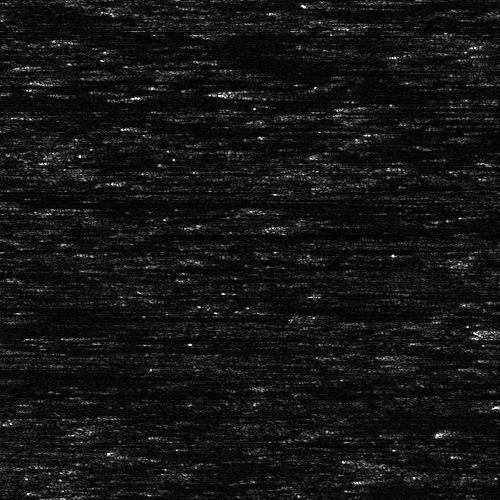object: (194, 85, 309, 96), (248, 221, 331, 232), (433, 398, 500, 411), (275, 0, 390, 7), (258, 313, 363, 320), (40, 488, 93, 500), (463, 326, 500, 339), (355, 352, 418, 359), (301, 104, 374, 109), (204, 29, 245, 36), (0, 63, 55, 68), (0, 313, 28, 320), (0, 200, 22, 207), (0, 344, 22, 351)
shadow: (0, 184, 361, 193), (252, 85, 500, 96), (290, 221, 500, 232), (0, 200, 294, 207), (67, 488, 224, 500), (332, 0, 500, 7), (225, 29, 373, 36), (337, 104, 491, 109), (386, 352, 470, 359), (311, 313, 392, 320), (0, 313, 72, 320), (0, 344, 62, 351), (24, 63, 94, 68)
